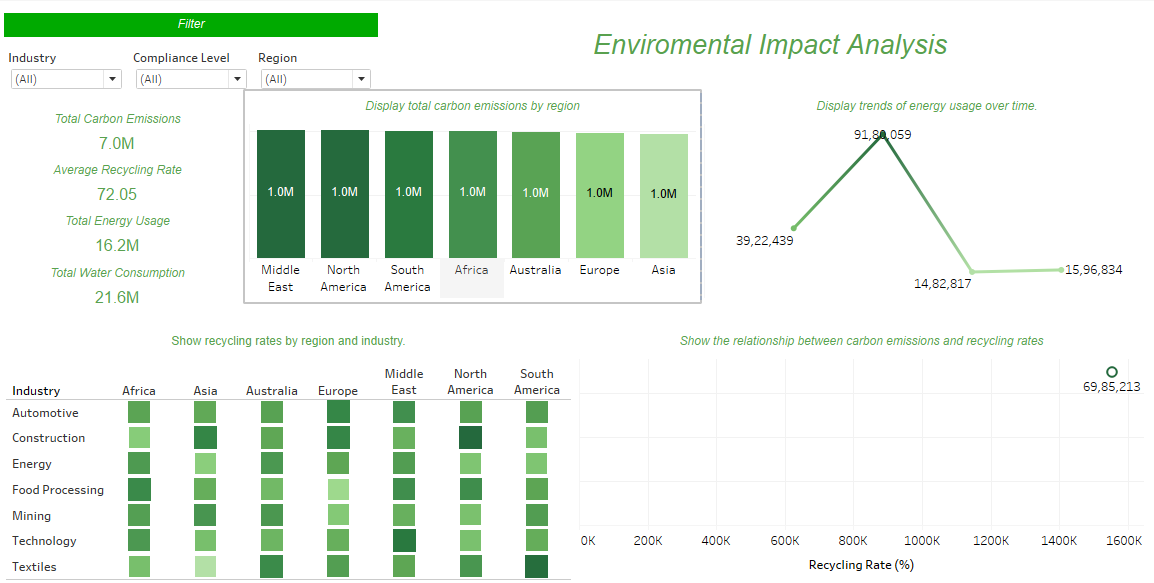

The dashboard page shown, as its layout file describes it:
{"tool":"tableau","page":{"name":"Dashboard 1","canvas":[1000,1000],"units":"permille","ordinal":0},"visuals":[{"type":"text","box":[337.7,8.6,659.7,133.6]},{"type":"worksheet","title":"Filter","mark":"Automatic","box":[0.9,13.7,330.7,54.8]},{"type":"filter","title":"Filter","param":"[federated.1uodc0x11wu55u1a72fyl1v5j2k6].[none:Industry:nk]","box":[4.3,75.3,108.2,85.6]},{"type":"filter","title":"Filter","param":"[federated.1uodc0x11wu55u1a72fyl1v5j2k6].[none:Compliance Level:nk]","box":[112.5,75.3,108.2,85.6]},{"type":"filter","title":"Filter","param":"[federated.1uodc0x11wu55u1a72fyl1v5j2k6].[none:Region:nk]","box":[220.8,75.3,107.4,85.6]},{"type":"worksheet","title":"Bar cahrt","mark":"Automatic","rows":["Carbon Emissions (kg)"],"cols":["Region"],"box":[213,154.1,393.9,361.3]},{"type":"worksheet","title":"Line Chart","mark":"Automatic","rows":["Energy Usage (kWh)"],"cols":["Year"],"box":[606.9,154.1,393.1,361.3]},{"type":"worksheet","title":"Total Carbon Emissions","mark":"Automatic","box":[1.7,176.4,201.7,87.8]},{"type":"worksheet","title":"Average Recycling Rate","mark":"Automatic","box":[1.7,264.1,201.7,87.8]},{"type":"worksheet","title":"Total Energy Usage","mark":"Automatic","box":[1.7,351.9,201.7,87.8]},{"type":"worksheet","title":"Total water consumption","mark":"Automatic","box":[1.7,439.6,201.7,87.8]},{"type":"worksheet","title":"Heat map","mark":"Automatic","rows":["Industry"],"cols":["Region"],"box":[2.6,556.5,496.1,441.8]},{"type":"worksheet","title":"Scatter plot","mark":"Automatic","rows":["Carbon Emissions (kg)"],"cols":["Recycling Rate (%)"],"box":[498.7,556.5,496.1,441.8]}]}

Visuals, with their boxes on the dashboard's canvas, which has no fixed pixel size, in thousandths of its width and height (x1, y1, x2, y2). These are canvas units, not pixel positions in the 1154x583 screenshot, which may show the page scaled, cropped or inside an application window:
text: Rect(338, 9, 997, 142)
"Filter" worksheet: Rect(1, 14, 332, 68)
"Filter" filter: Rect(4, 75, 112, 161)
"Filter" filter: Rect(112, 75, 221, 161)
"Filter" filter: Rect(221, 75, 328, 161)
"Bar cahrt" worksheet: Rect(213, 154, 607, 515)
"Line Chart" worksheet: Rect(607, 154, 1000, 515)
"Total Carbon Emissions" worksheet: Rect(2, 176, 203, 264)
"Average Recycling Rate" worksheet: Rect(2, 264, 203, 352)
"Total Energy Usage" worksheet: Rect(2, 352, 203, 440)
"Total water consumption" worksheet: Rect(2, 440, 203, 527)
"Heat map" worksheet: Rect(3, 556, 499, 998)
"Scatter plot" worksheet: Rect(499, 556, 995, 998)
